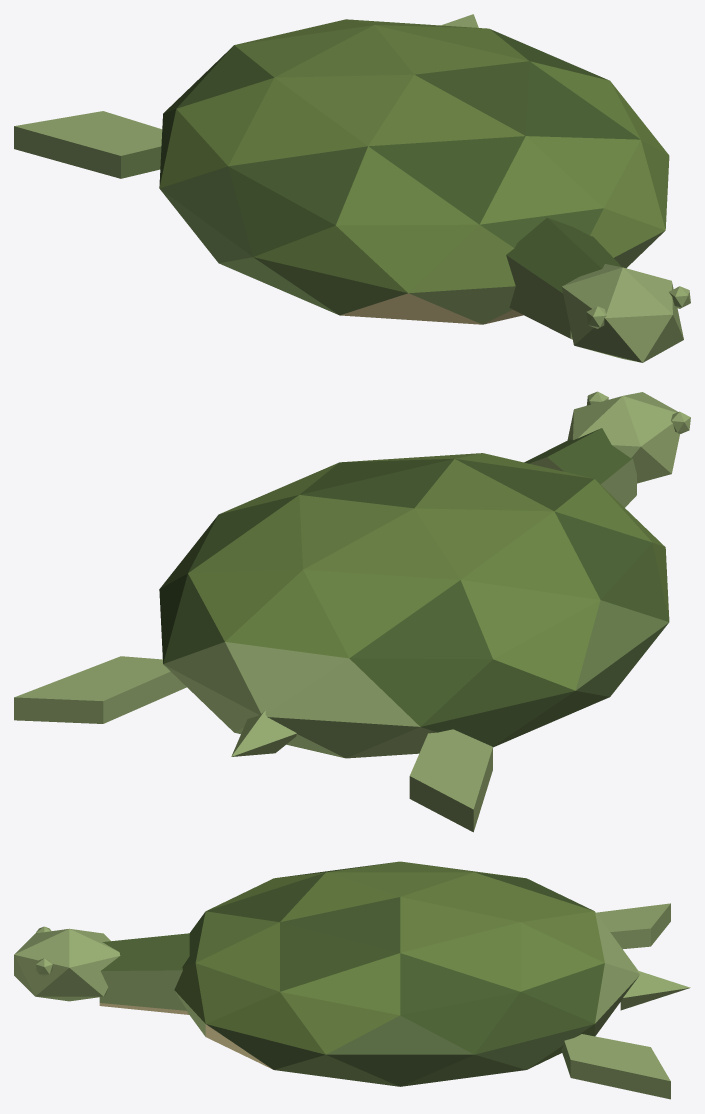
File: Turtle_Body.glb
3 renders of one model, top to bottom at view 1: azimuth 30°, elevation 25°; view 2: azimuth 150°, elevation 25°; view 3: azimuth 270°, elevation 25°, orthographic. The views are drawn at different scales.
Parts seen in each view (by area): view 1: Turtle_Body; view 2: Turtle_Body; view 3: Turtle_Body.
Part boxes in pixels (left/top/right/bottom): Turtle_Body: left=14, top=14, right=690, bottom=362; Turtle_Body: left=14, top=391, right=690, bottom=832; Turtle_Body: left=14, top=861, right=690, bottom=1099.
Bounding box in the file's own units: 0.84 × 0.34 × 1.35.
